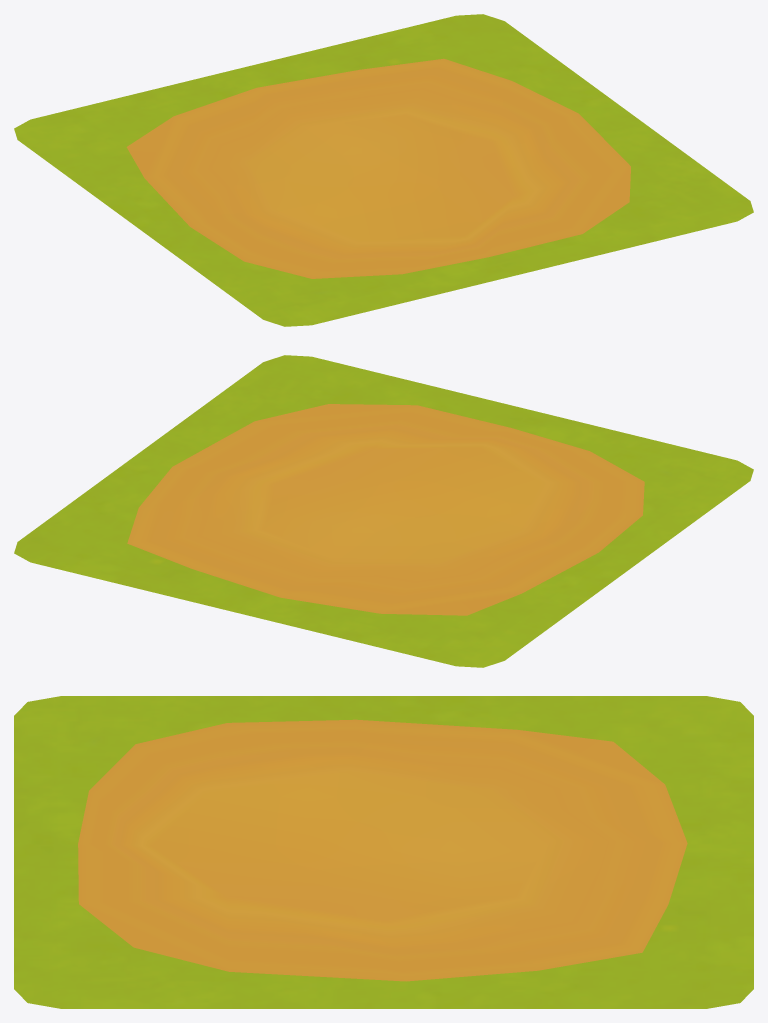
The model's file is Dirt_Ground_4x4.fbx.
3 views of the same model, one above another, from view 1: azimuth 30°, elevation 25°; view 2: azimuth 150°, elevation 25°; view 3: azimuth 270°, elevation 25° (orthographic). The views are drawn at different scales.
Parts seen in each view (by area): view 1: Dirt_Ground_4x4; view 2: Dirt_Ground_4x4; view 3: Dirt_Ground_4x4.
Part boxes in pixels (<box>): Dirt_Ground_4x4: <box>14,14,753,326</box>; Dirt_Ground_4x4: <box>14,355,753,667</box>; Dirt_Ground_4x4: <box>14,696,753,1008</box>.
Size of the model in its own units: 400 by 0.9064 by 400.
